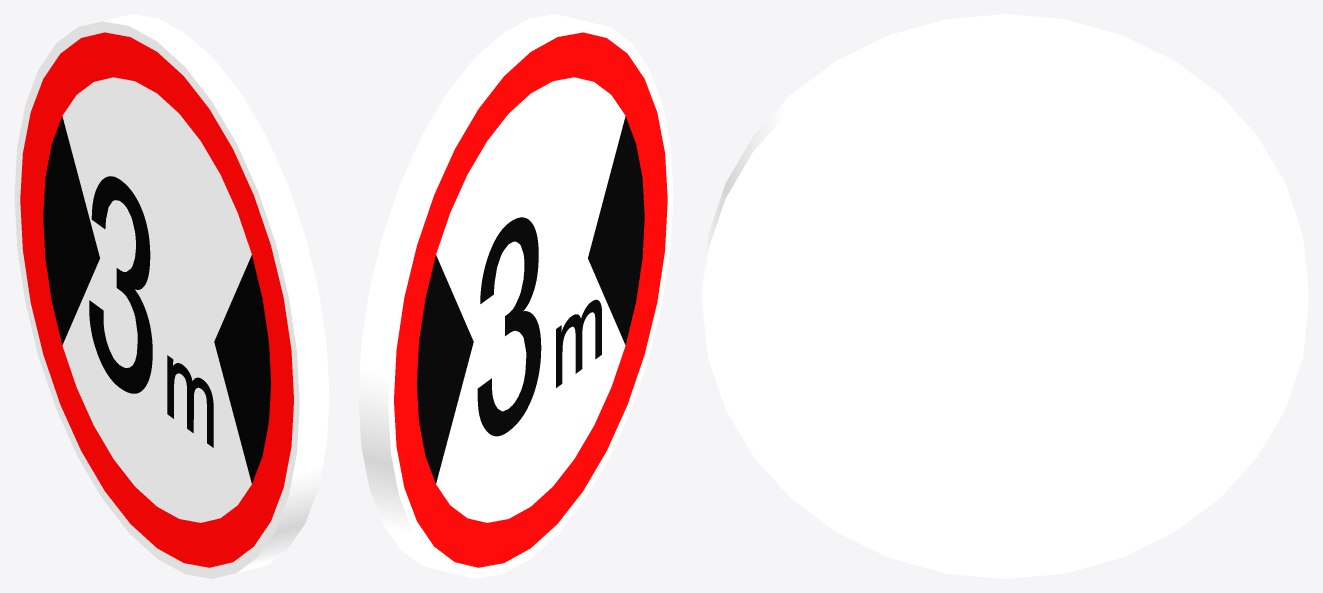
The model's file is Width_Limit_3.glb.
The picture shows the model from 3 angles, left to right: view 1: azimuth 30°, elevation 25°; view 2: azimuth 150°, elevation 25°; view 3: azimuth 270°, elevation 25°; orthographic projection. The views are drawn at different scales.
Parts seen in each view (by area): view 1: Width_Limit_3; view 2: Width_Limit_3; view 3: Width_Limit_3.
Part boxes in pixels (x1,y1,x2,y2): Width_Limit_3: [14, 14, 329, 578]; Width_Limit_3: [358, 14, 673, 578]; Width_Limit_3: [702, 14, 1308, 578].
Bounding box in the file's own units: 0.075 × 1 × 1.
